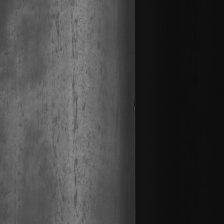silk_spot: (42, 89, 84, 155), (68, 158, 94, 223), (62, 10, 84, 72)
